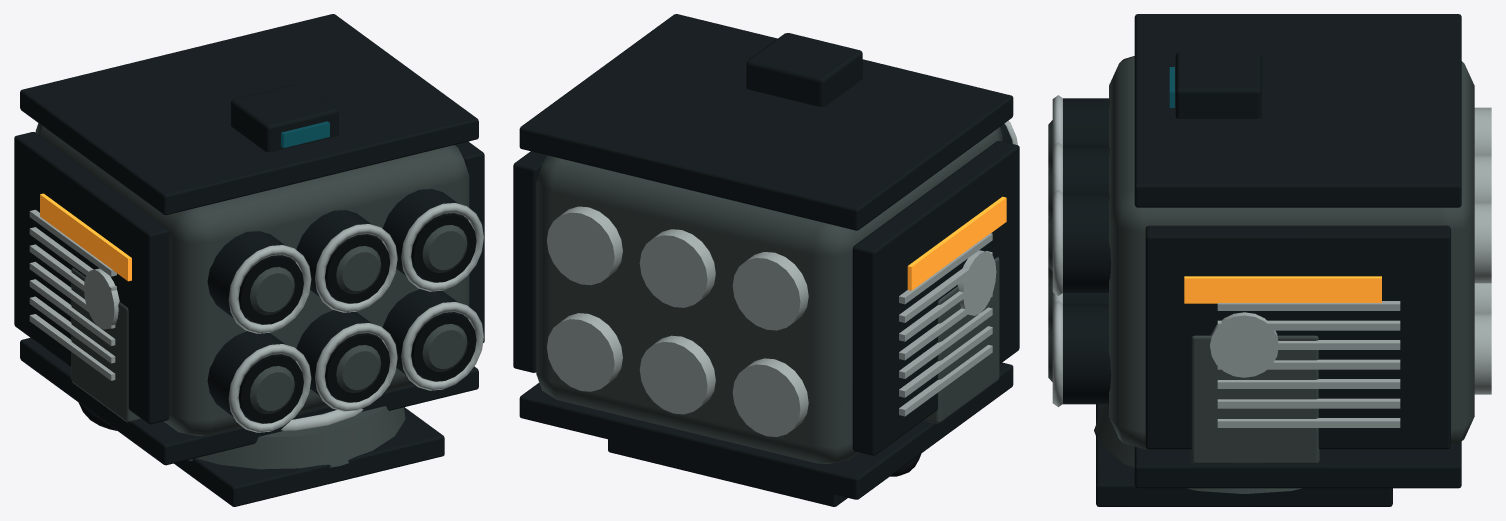
File: missile-pod-lod1.glb
3 renders of one model, left to right at view 1: azimuth 30°, elevation 25°; view 2: azimuth 150°, elevation 25°; view 3: azimuth 270°, elevation 25°, orthographic. The views are drawn at different scales.
Parts seen in each view (by area): view 1: pod-housing__Recessed_carbon_mechanism, pod-housing__Cerakote_graphite_armor, side-armor__Recessed_carbon_mechanism, cell-rims__Machined_titanium, launch-cells__Recessed_carbon_mechanism, cell-interiors__Vibration_isolator, cell-safety-caps__Cerakote_graphite_armor, mount__Recessed_carbon_mechanism, mount__Cerakote_graphite_armor, cooling-fins__Machined_titanium, sensor__Recessed_carbon_mechanism, cradle__Cerakote_graphite_armor (+4 smaller); view 2: pod-housing__Recessed_carbon_mechanism, pod-housing__Cerakote_graphite_armor, side-armor__Recessed_carbon_mechanism, rear-caps__Machined_titanium, cooling-fins__Machined_titanium, sensor__Recessed_carbon_mechanism, cradle__Cerakote_graphite_armor, mount__Recessed_carbon_mechanism, identification__Amber_safety_identification, trunnion__Machined_titanium; view 3: pod-housing__Recessed_carbon_mechanism, side-armor__Recessed_carbon_mechanism, pod-housing__Cerakote_graphite_armor, launch-cells__Recessed_carbon_mechanism, cooling-fins__Machined_titanium, cradle__Cerakote_graphite_armor, mount__Recessed_carbon_mechanism, sensor__Recessed_carbon_mechanism, identification__Amber_safety_identification, rear-caps__Machined_titanium, cell-rims__Machined_titanium, trunnion__Machined_titanium (+2 smaller).
Boxes of the visible parts, left/top/right/bottom form: pod-housing__Recessed_carbon_mechanism: left=20, top=14, right=478, bottom=465; pod-housing__Cerakote_graphite_armor: left=35, top=123, right=469, bottom=435; side-armor__Recessed_carbon_mechanism: left=14, top=132, right=484, bottom=424; cell-rims__Machined_titanium: left=228, top=203, right=483, bottom=432; launch-cells__Recessed_carbon_mechanism: left=207, top=189, right=469, bottom=421; cell-interiors__Vibration_isolator: left=239, top=214, right=476, bottom=423; cell-safety-caps__Cerakote_graphite_armor: left=250, top=225, right=467, bottom=414; mount__Recessed_carbon_mechanism: left=174, top=407, right=444, bottom=506; mount__Cerakote_graphite_armor: left=188, top=406, right=405, bottom=469; cooling-fins__Machined_titanium: left=29, top=209, right=116, bottom=380; sensor__Recessed_carbon_mechanism: left=231, top=83, right=338, bottom=152; cradle__Cerakote_graphite_armor: left=71, top=268, right=141, bottom=422; pod-housing__Recessed_carbon_mechanism: left=519, top=14, right=1013, bottom=499; pod-housing__Cerakote_graphite_armor: left=536, top=127, right=1002, bottom=463; side-armor__Recessed_carbon_mechanism: left=513, top=141, right=1019, bottom=455; rear-caps__Machined_titanium: left=547, top=206, right=808, bottom=436; cooling-fins__Machined_titanium: left=899, top=233, right=992, bottom=416; sensor__Recessed_carbon_mechanism: left=746, top=33, right=862, bottom=106; cradle__Cerakote_graphite_armor: left=923, top=257, right=999, bottom=423; mount__Recessed_carbon_mechanism: left=608, top=439, right=847, bottom=506; identification__Amber_safety_identification: left=907, top=196, right=1006, bottom=290; trunnion__Machined_titanium: left=958, top=250, right=996, bottom=315; pod-housing__Recessed_carbon_mechanism: left=1134, top=14, right=1461, bottom=488; side-armor__Recessed_carbon_mechanism: left=1145, top=225, right=1450, bottom=449; pod-housing__Cerakote_graphite_armor: left=1109, top=56, right=1474, bottom=449; launch-cells__Recessed_carbon_mechanism: left=1063, top=98, right=1111, bottom=404; cooling-fins__Machined_titanium: left=1217, top=301, right=1400, bottom=427; cradle__Cerakote_graphite_armor: left=1190, top=335, right=1319, bottom=464; mount__Recessed_carbon_mechanism: left=1096, top=404, right=1392, bottom=506; sensor__Recessed_carbon_mechanism: left=1175, top=51, right=1261, bottom=118; identification__Amber_safety_identification: left=1184, top=276, right=1381, bottom=303; rear-caps__Machined_titanium: left=1474, top=107, right=1491, bottom=394; cell-rims__Machined_titanium: left=1052, top=95, right=1062, bottom=407; trunnion__Machined_titanium: left=1210, top=312, right=1278, bottom=377.
Bounding box in the file's own units: 2.1 × 1.95 × 2.06.
